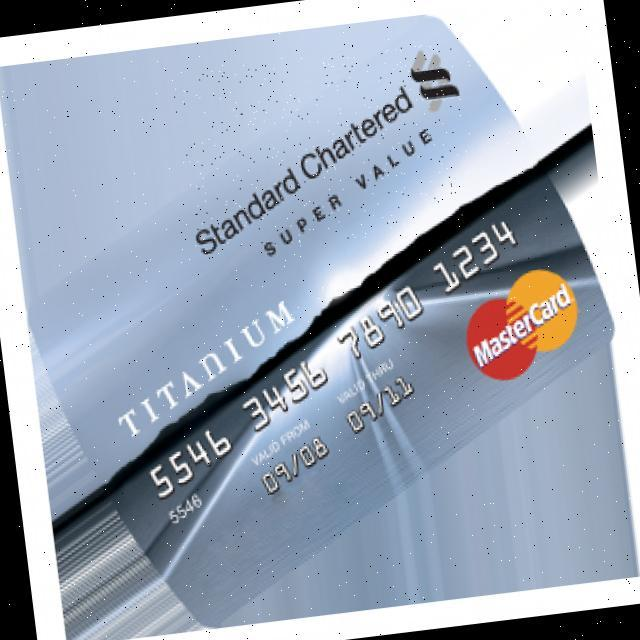Standard Chartered: (170, 41, 476, 260)
